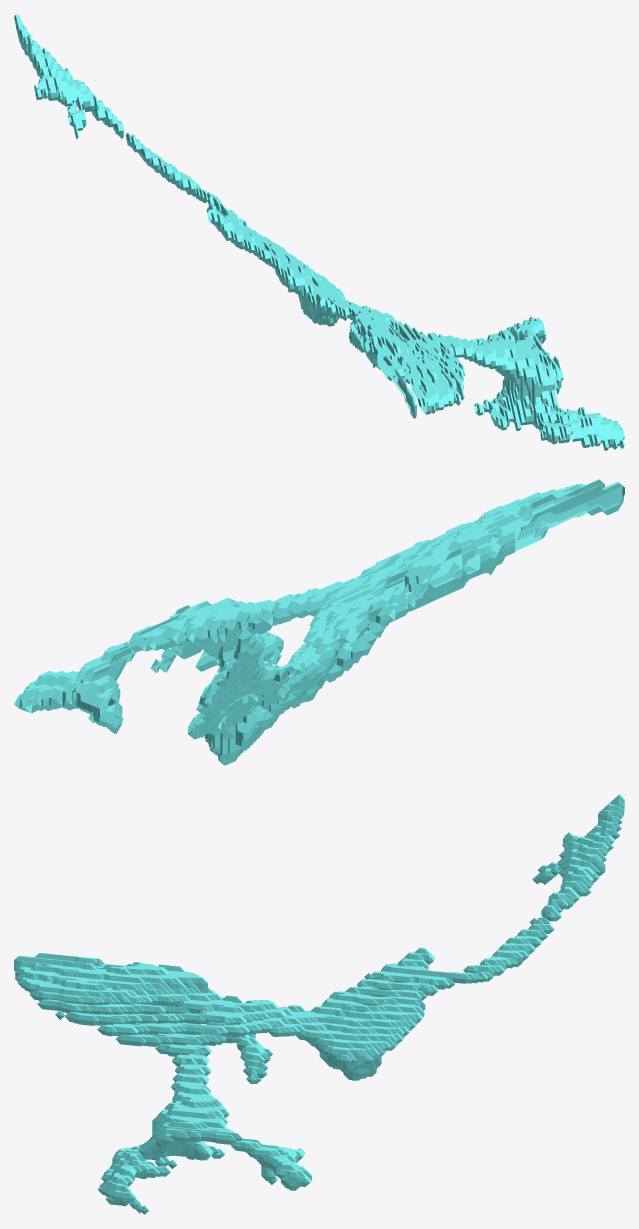
Rendered from SVV_BWM-VL01.gltf.
The picture shows the model from 3 angles, top to bottom: view 1: azimuth 30°, elevation 25°; view 2: azimuth 150°, elevation 25°; view 3: azimuth 270°, elevation 25°; orthographic projection. The views are drawn at different scales.
Parts seen in each view (by area): view 1: BWM-VL01; view 2: BWM-VL01; view 3: BWM-VL01.
Boxes of the visible parts, x1,y1,x2,y2 form: BWM-VL01: (14,14,624,450); BWM-VL01: (14,479,624,765); BWM-VL01: (14,794,624,1214).
Bounding box in the file's own units: 47146 × 38918 × 78334.
